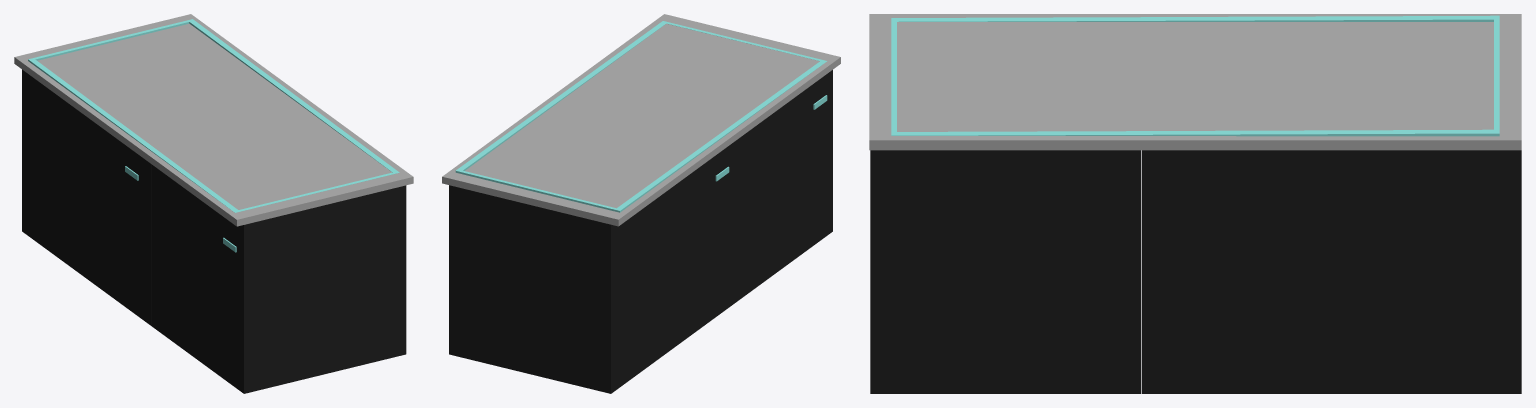
Rendered from meble 2.fbx.
3 views of the same model, side by side, from view 1: azimuth 30°, elevation 25°; view 2: azimuth 150°, elevation 25°; view 3: azimuth 270°, elevation 25° (orthographic). The views are drawn at different scales.
Parts seen in each view (by area): view 1: pCube35, pCube34, pCube37, fluo_blue1; view 2: pCube37, pCube34, pCube35, fluo_blue1; view 3: pCube37, pCube34, pCube35, fluo_blue1.
Boxes of the visible parts, left/top/right/bottom form: pCube35: left=152, top=165, right=406, bottom=393; pCube34: left=14, top=14, right=413, bottom=226; pCube37: left=22, top=69, right=151, bottom=326; fluo_blue1: left=28, top=19, right=399, bottom=212; pCube37: left=449, top=137, right=740, bottom=393; pCube34: left=442, top=14, right=840, bottom=226; pCube35: left=740, top=70, right=832, bottom=298; fluo_blue1: left=455, top=21, right=826, bottom=212; pCube37: left=1141, top=150, right=1521, bottom=393; pCube34: left=869, top=14, right=1521, bottom=150; pCube35: left=870, top=150, right=1140, bottom=393; fluo_blue1: left=891, top=15, right=1499, bottom=136.
Bounding box in the file's own units: 1.09 × 1.05 × 2.38.
